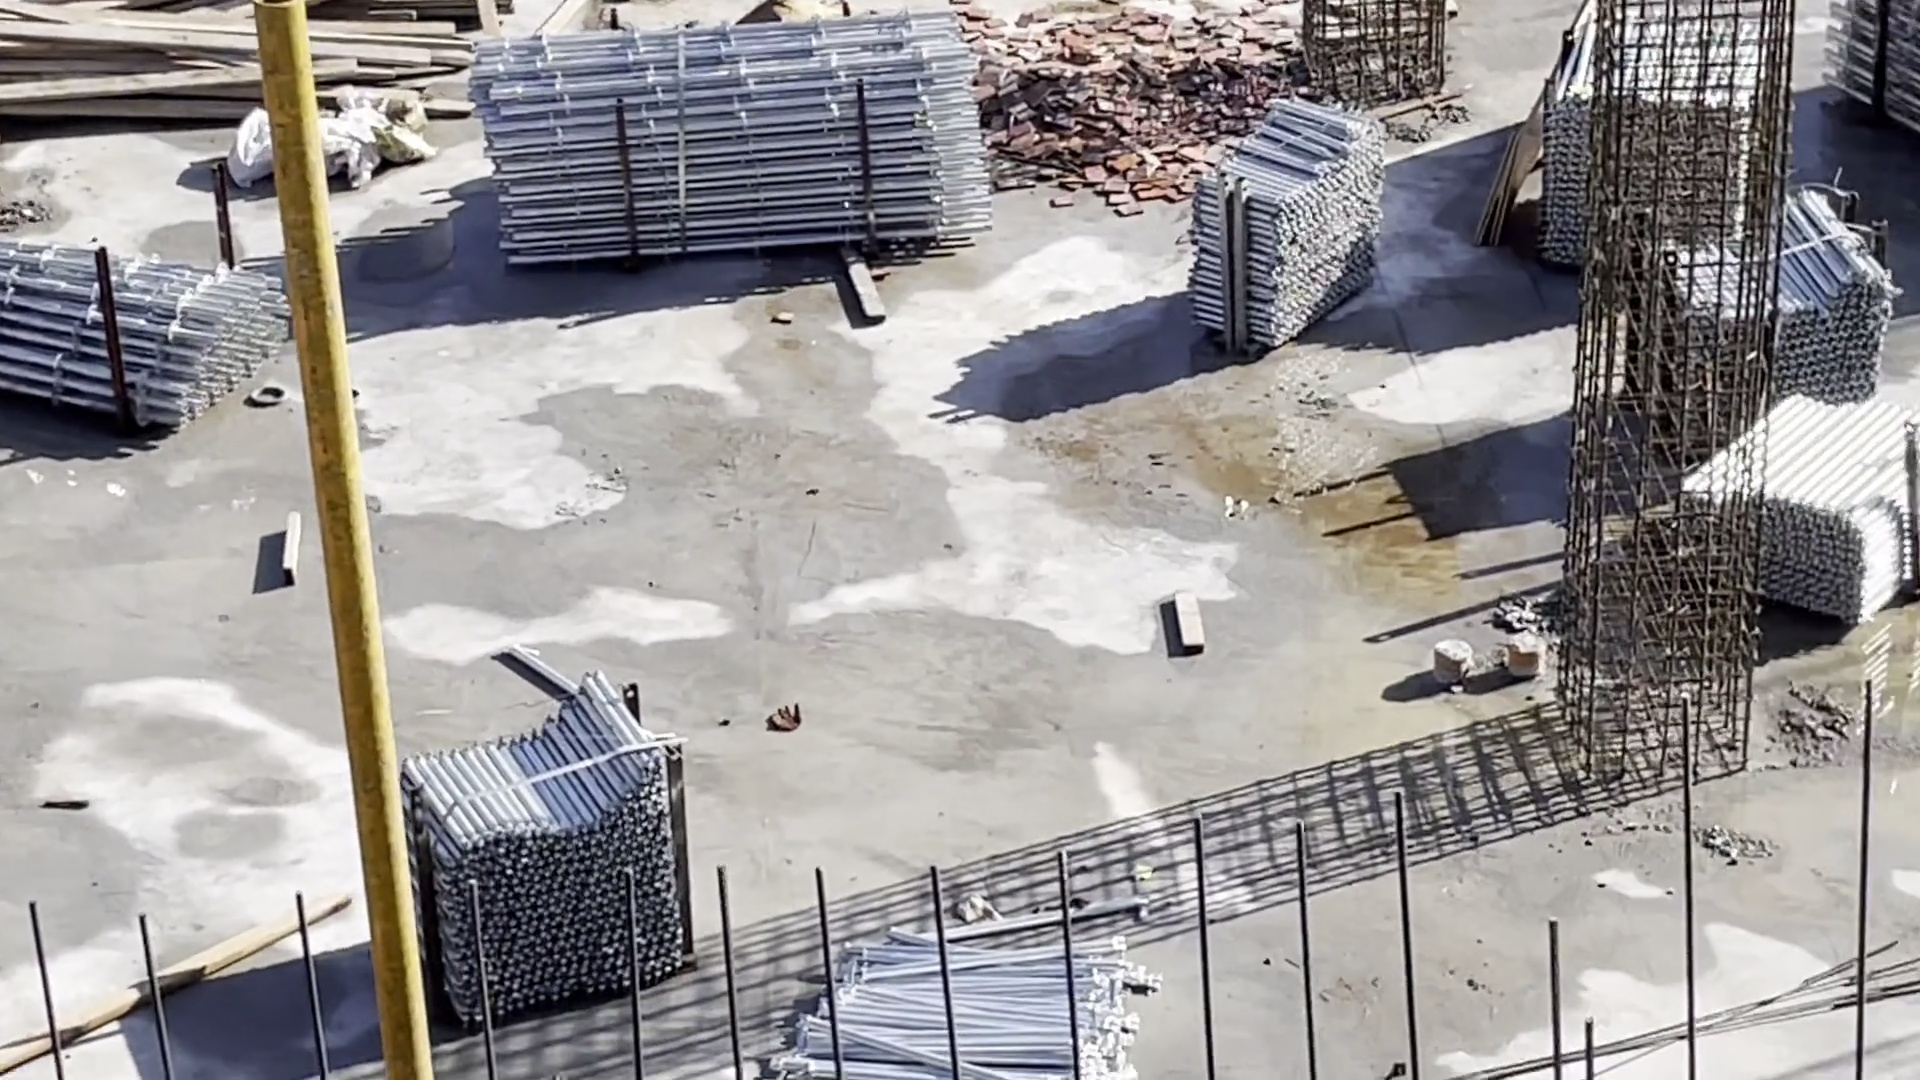scaffold: (1543, 9, 1920, 632), (473, 16, 1000, 266), (394, 675, 702, 1036), (3, 229, 291, 452), (778, 926, 1158, 1080), (1187, 100, 1395, 348)
